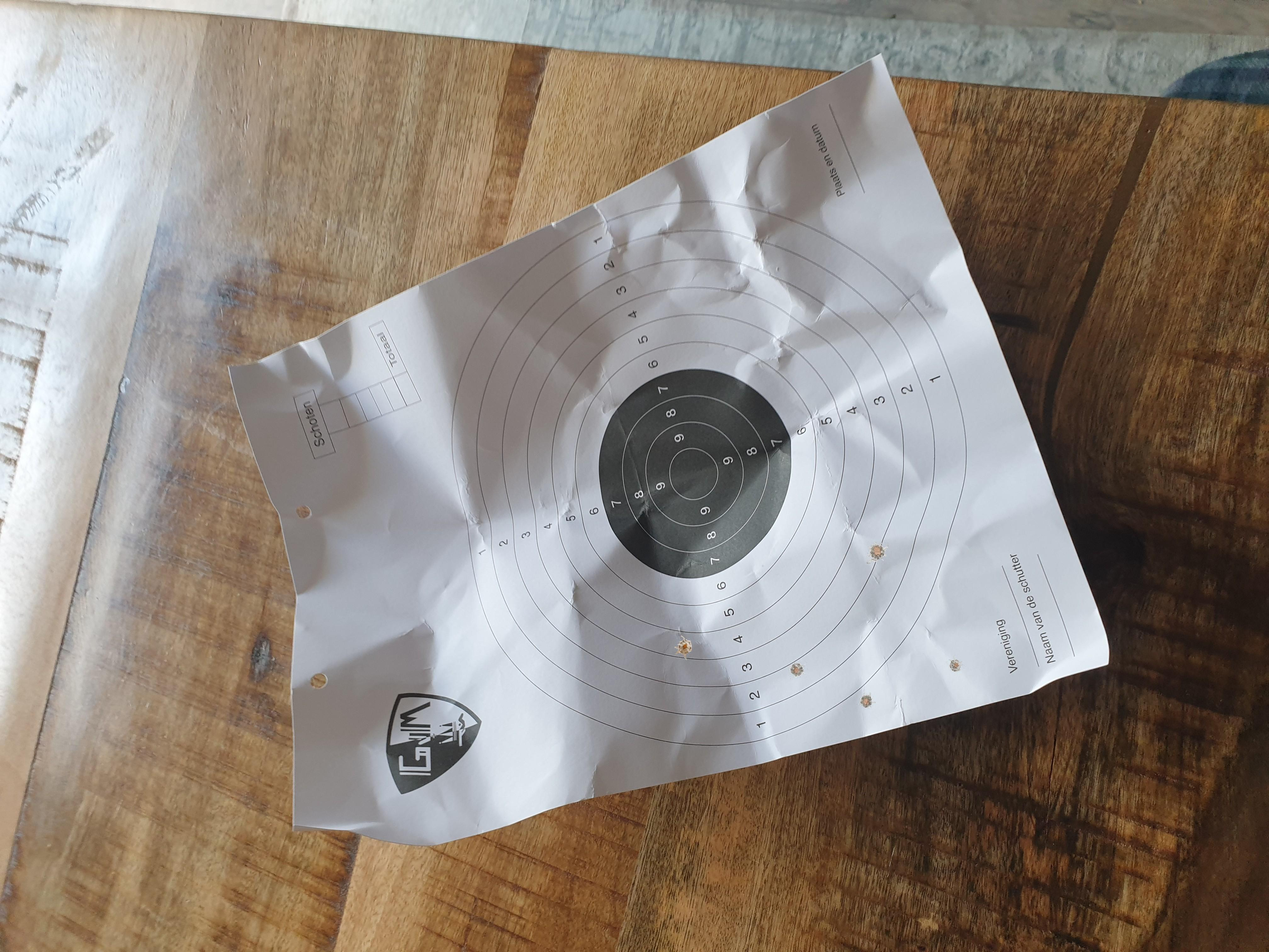hole: (674, 636, 692, 660), (870, 543, 888, 562), (788, 663, 806, 678), (860, 693, 876, 708), (949, 659, 962, 672)
